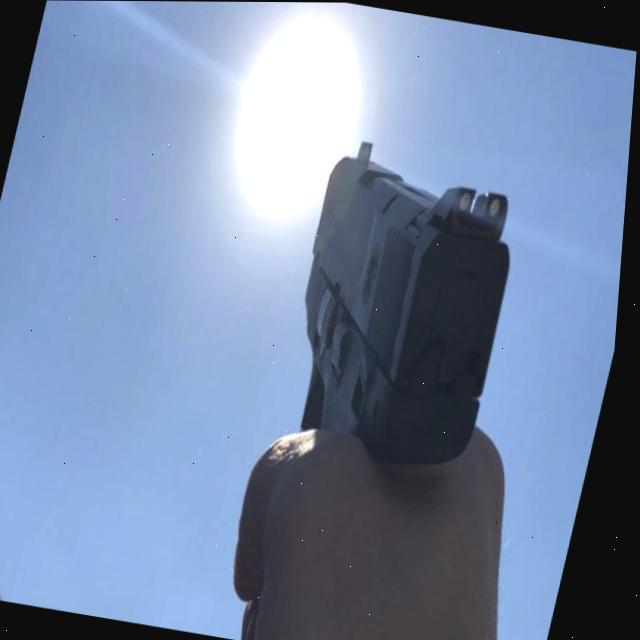gun: (275, 133, 541, 471)
